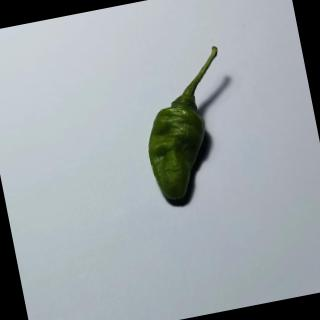Cabai Hijau: (128, 43, 253, 212)
